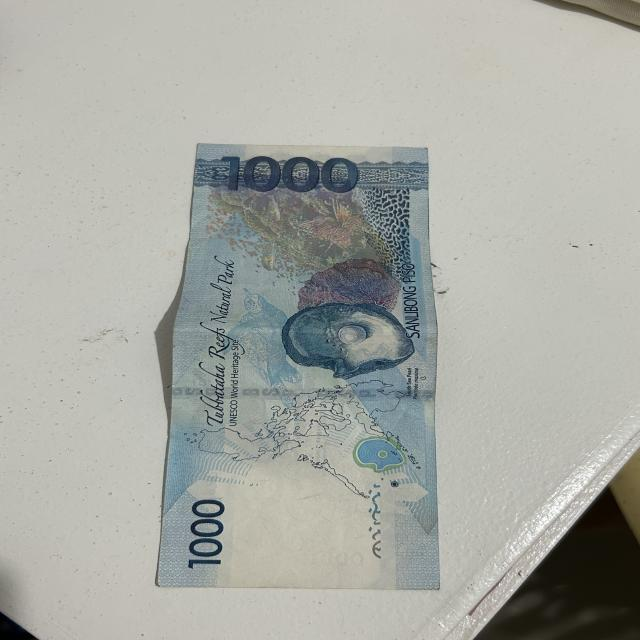1000_pearl: (286, 307, 412, 377)
1000_pearl_watermark: (358, 435, 400, 472)
